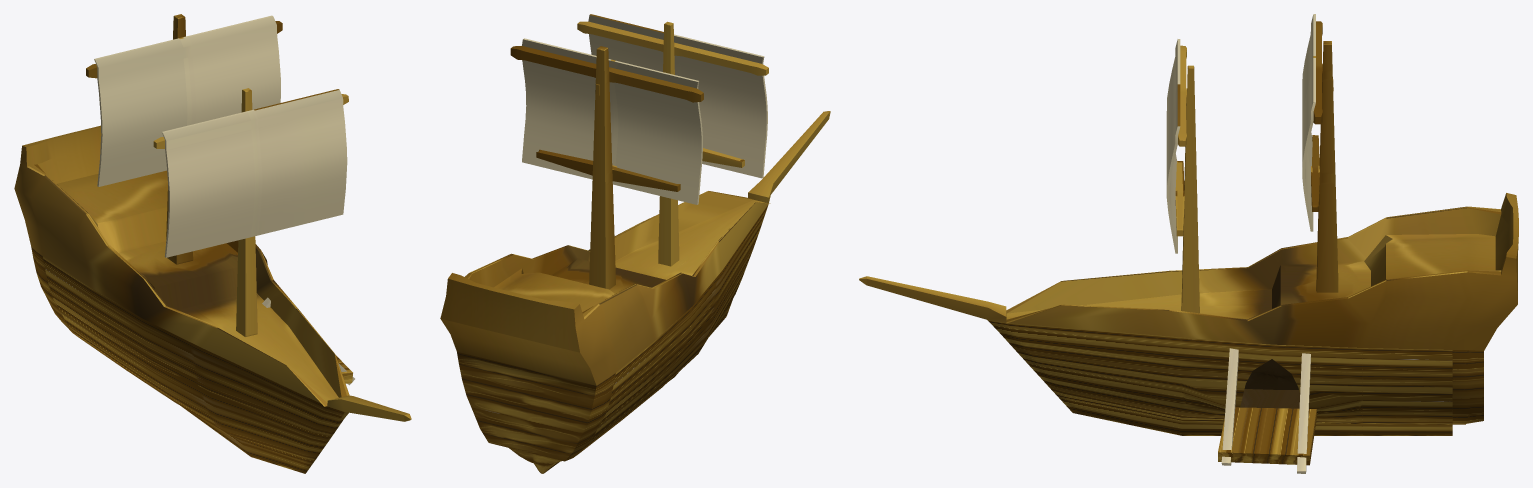
The model's file is Ship.fbx.
3 renders of one model, left to right at view 1: azimuth 30°, elevation 25°; view 2: azimuth 150°, elevation 25°; view 3: azimuth 270°, elevation 25°, orthographic. The views are drawn at different scales.
Visible parts, largest first — view 1: pCube1; view 2: pCube1; view 3: pCube1, Roop_1, Roop_2.
Boxes of the visible parts, left/top/right/bottom form: pCube1: left=14, top=14, right=411, bottom=473; pCube1: left=440, top=14, right=830, bottom=473; pCube1: left=859, top=14, right=1518, bottom=465; Roop_1: left=1297, top=353, right=1310, bottom=473; Roop_2: left=1221, top=348, right=1238, bottom=465.
Bounding box in the file's own units: 30.01 × 48.05 × 73.11.
